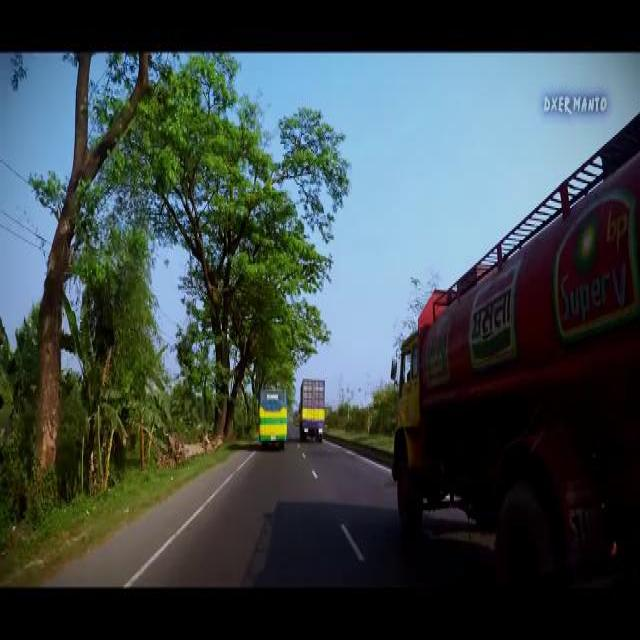18: (388, 113, 638, 559), (295, 378, 331, 442)
Truck: (253, 382, 291, 450)
